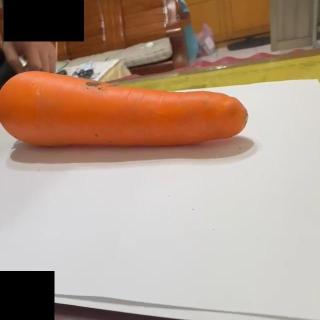carrot: (0, 69, 250, 148)
